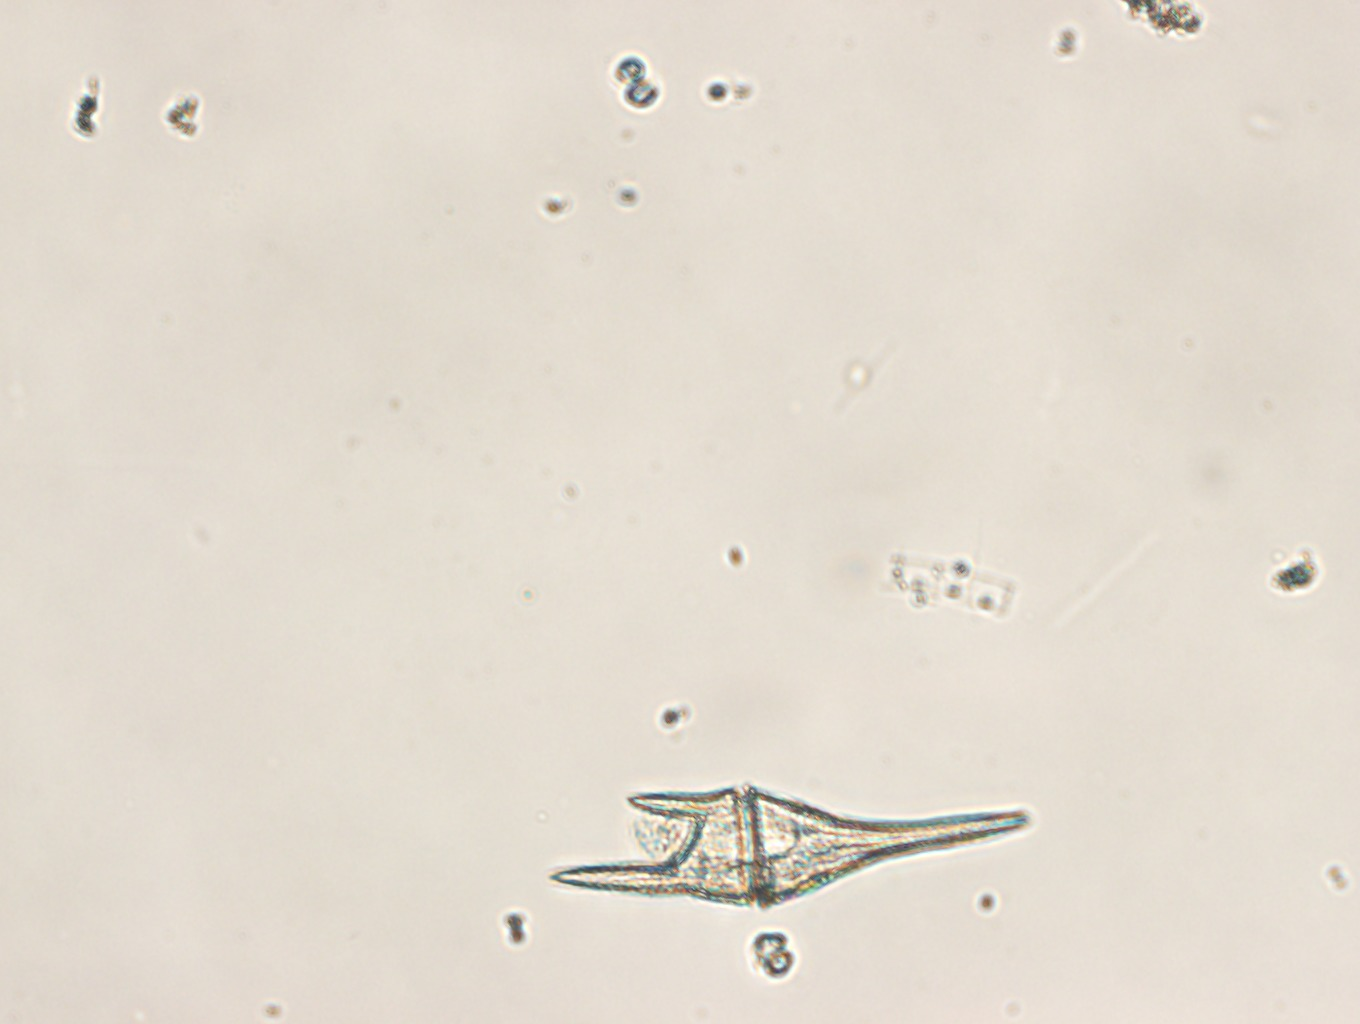ceratium furca: (550, 786, 1027, 910)
